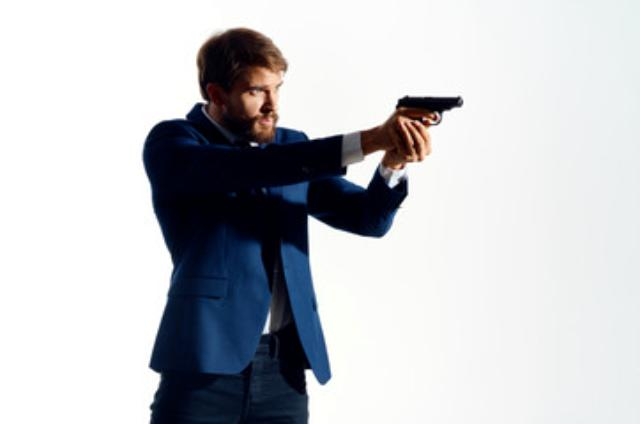pistol: (373, 97, 461, 161), (384, 88, 466, 146)
